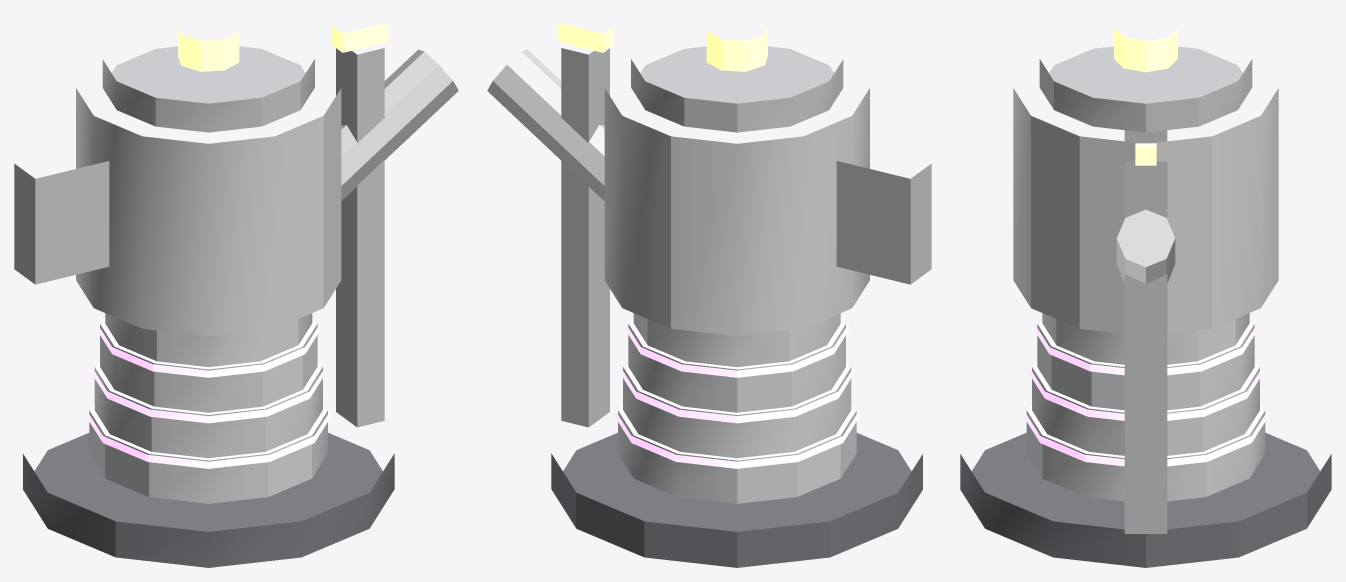
The model's file is iter_03.glb.
3 views of the same model, side by side, from view 1: azimuth 30°, elevation 25°; view 2: azimuth 150°, elevation 25°; view 3: azimuth 270°, elevation 25° (orthographic).
Visible parts, largest first — view 1: Pot_Body, Cup_Stack, Dock, Lock_Arm, Pot_Lid, Pot_Handle, Stack_Bands, Spout, Lid_Knob, Dock_Latches; view 2: Pot_Body, Cup_Stack, Dock, Lock_Arm, Pot_Lid, Pot_Handle, Stack_Bands, Spout, Lid_Knob, Dock_Latches; view 3: Pot_Body, Dock, Cup_Stack, Lock_Arm, Pot_Lid, Stack_Bands, Spout, Lid_Knob, Pot_Handle, Dock_Latches.
Part boxes in pixels (x1=…): Pot_Body: x1=76, y1=88, x2=341, y2=336; Cup_Stack: x1=89, y1=313, x2=327, y2=503; Dock: x1=23, y1=433, x2=394, y2=567; Lock_Arm: x1=336, y1=48, x2=384, y2=427; Pot_Lid: x1=102, y1=46, x2=314, y2=132; Pot_Handle: x1=14, y1=161, x2=109, y2=284; Stack_Bands: x1=86, y1=318, x2=330, y2=468; Spout: x1=341, y1=49, x2=458, y2=200; Lid_Knob: x1=178, y1=25, x2=239, y2=71; Dock_Latches: x1=332, y1=22, x2=388, y2=52; Pot_Body: x1=604, y1=88, x2=869, y2=336; Cup_Stack: x1=618, y1=313, x2=856, y2=503; Dock: x1=551, y1=433, x2=922, y2=567; Lock_Arm: x1=561, y1=48, x2=609, y2=427; Pot_Lid: x1=631, y1=46, x2=843, y2=132; Pot_Handle: x1=836, y1=161, x2=931, y2=284; Stack_Bands: x1=615, y1=318, x2=859, y2=468; Spout: x1=487, y1=49, x2=604, y2=200; Lid_Knob: x1=706, y1=25, x2=767, y2=71; Dock_Latches: x1=557, y1=22, x2=613, y2=52; Pot_Body: x1=1013, y1=88, x2=1278, y2=333; Dock: x1=960, y1=433, x2=1331, y2=567; Cup_Stack: x1=1026, y1=313, x2=1265, y2=501; Lock_Arm: x1=1124, y1=161, x2=1167, y2=533; Pot_Lid: x1=1039, y1=46, x2=1252, y2=132; Stack_Bands: x1=1024, y1=319, x2=1267, y2=466; Spout: x1=1116, y1=209, x2=1175, y2=283; Lid_Knob: x1=1114, y1=28, x2=1177, y2=72; Pot_Handle: x1=1124, y1=130, x2=1167, y2=143; Dock_Latches: x1=1135, y1=143, x2=1156, y2=165.
Bounding box in the file's own units: 0.1861 × 0.192 × 0.14.
